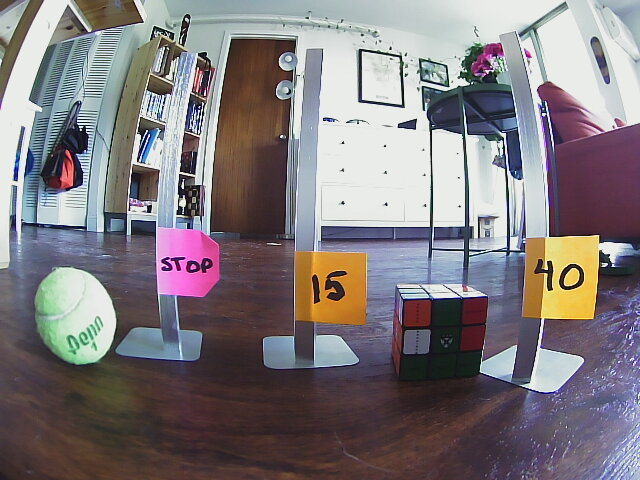15: (298, 254, 362, 321)
40: (529, 241, 593, 314)
ball: (33, 268, 117, 364)
cube: (391, 283, 490, 380)
stop: (155, 230, 219, 300)
